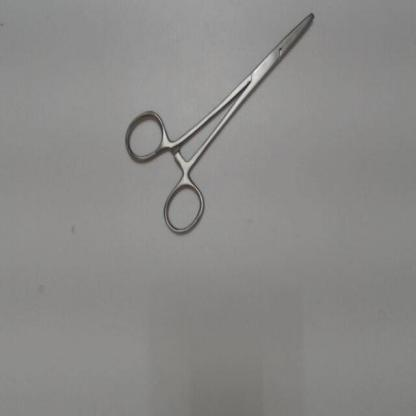Mayo Needle Holder: (118, 4, 331, 246)
